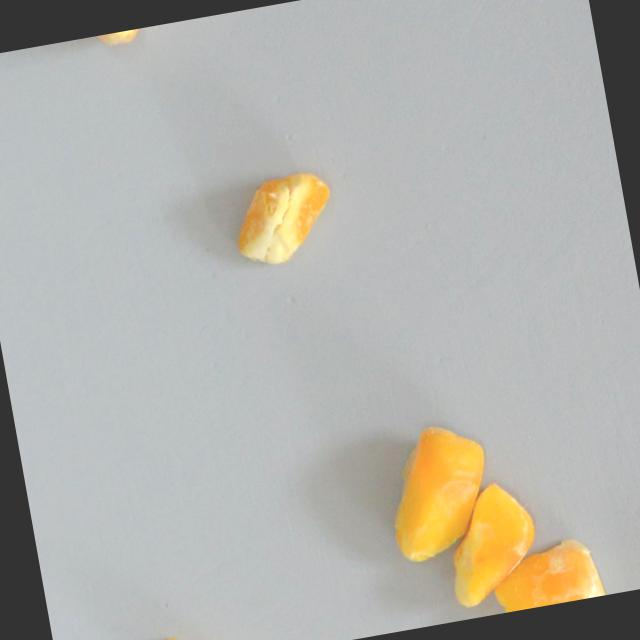pelicula: (372, 411, 503, 569), (428, 480, 548, 619), (222, 144, 342, 283), (483, 529, 608, 614), (134, 609, 237, 640)
